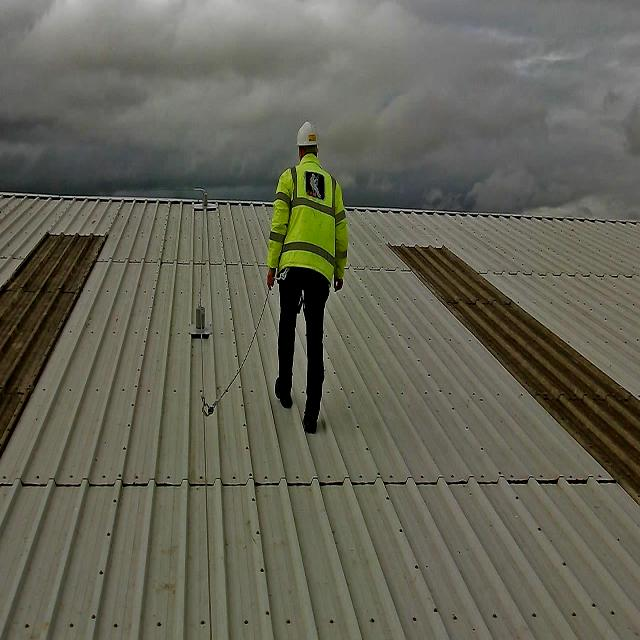helmet: (293, 118, 323, 152)
vest: (272, 154, 341, 298)
